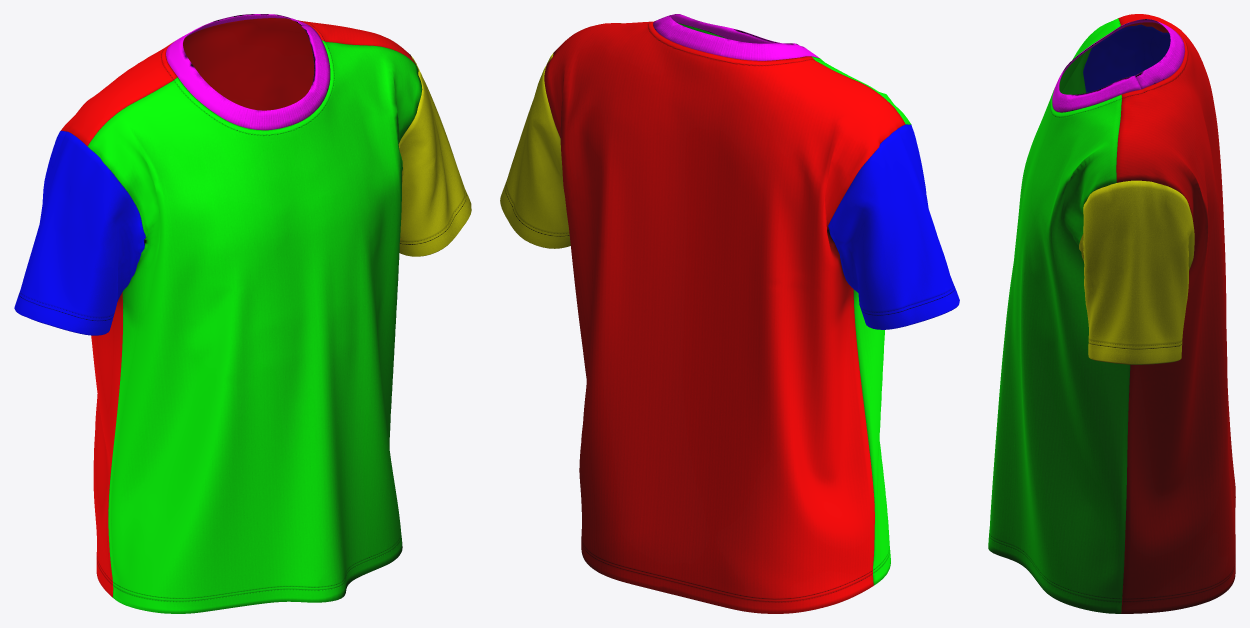
Rendered from YouthCrewTee.glb.
3 renders of one model, left to right at view 1: azimuth 30°, elevation 25°; view 2: azimuth 150°, elevation 25°; view 3: azimuth 270°, elevation 25°, orthographic. The views are drawn at different scales.
Visible parts, largest first — view 1: 08YouthCrewTee; view 2: 08YouthCrewTee; view 3: 08YouthCrewTee.
Part boxes in pixels (left/top/right/bottom): 08YouthCrewTee: left=14, top=14, right=471, bottom=613; 08YouthCrewTee: left=500, top=14, right=959, bottom=613; 08YouthCrewTee: left=988, top=14, right=1235, bottom=613.
Size of the model in its own units: 0.4905 by 0.5526 by 0.2423.
Materials: 1 (1 with a texture image).
